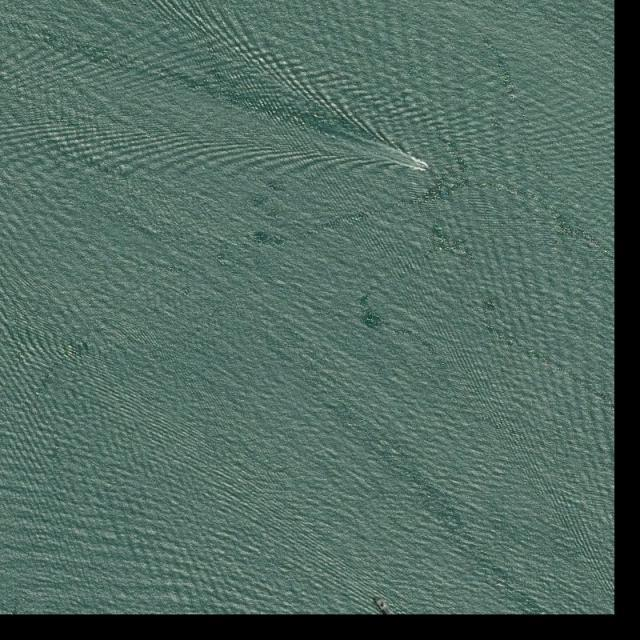ship: (372, 594, 394, 614), (421, 164, 432, 171)
